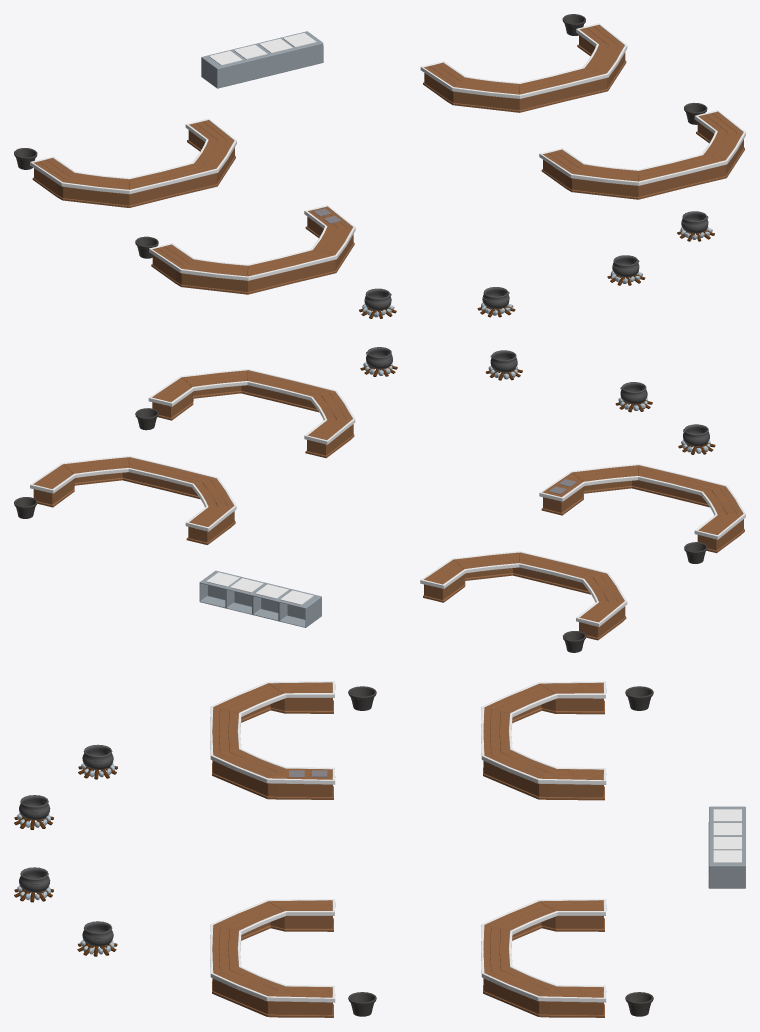
File: ASSETS_Sala de Alquimia (1).fbx
3 renders of one model, top to bottom at view 1: azimuth 30°, elevation 25°; view 2: azimuth 150°, elevation 25°; view 3: azimuth 270°, elevation 25°, orthographic. The views are drawn at different scales.
Visible parts, largest first — view 1: BancadaCompetidor.003, BancadaCompetidor.001, BancadaCompetidor.002, BancadaCompetidor, BancadaEntrega, Caldeirão.004, Caldeirão.007, Caldeirão.006, Caldeirão.005; view 2: BancadaCompetidor.003, BancadaCompetidor.001, BancadaCompetidor.002, BancadaCompetidor, BancadaEntrega, Caldeirão.006, Caldeirão.004, Caldeirão.005, Caldeirão.007; view 3: BancadaCompetidor.002, BancadaCompetidor.003, BancadaCompetidor.001, BancadaCompetidor, BancadaEntrega, Caldeirão.007, Caldeirão.005, Caldeirão.006, Caldeirão.004.
Part boxes in pixels (x1=…): BancadaCompetidor.003: x1=420, y1=23, x2=627, y2=112; BancadaCompetidor.001: x1=539, y1=110, x2=745, y2=199; BancadaCompetidor.002: x1=30, y1=118, x2=236, y2=207; BancadaCompetidor: x1=149, y1=205, x2=355, y2=294; BancadaEntrega: x1=201, y1=31, x2=323, y2=88; Caldeirão.004: x1=364, y1=288, x2=391, y2=311; Caldeirão.007: x1=681, y1=211, x2=708, y2=233; Caldeirão.006: x1=612, y1=255, x2=639, y2=277; Caldeirão.005: x1=482, y1=287, x2=509, y2=308; BancadaCompetidor.003: x1=30, y1=456, x2=236, y2=544; BancadaCompetidor.001: x1=148, y1=369, x2=355, y2=458; BancadaCompetidor.002: x1=420, y1=551, x2=627, y2=640; BancadaCompetidor: x1=539, y1=464, x2=745, y2=553; BancadaEntrega: x1=199, y1=570, x2=321, y2=627; Caldeirão.006: x1=490, y1=350, x2=517, y2=373; Caldeirão.004: x1=683, y1=424, x2=709, y2=447; Caldeirão.005: x1=620, y1=382, x2=647, y2=405; Caldeirão.007: x1=366, y1=347, x2=392, y2=370; BancadaCompetidor.002: x1=481, y1=681, x2=606, y2=800; BancadaCompetidor.003: x1=481, y1=899, x2=606, y2=1017; BancadaCompetidor.001: x1=210, y1=899, x2=335, y2=1017; BancadaCompetidor: x1=210, y1=681, x2=335, y2=799; BancadaEntrega: x1=708, y1=806, x2=745, y2=888; Caldeirão.007: x1=82, y1=921, x2=113, y2=946; Caldeirão.005: x1=19, y1=795, x2=50, y2=820; Caldeirão.006: x1=19, y1=867, x2=50, y2=893; Caldeirão.004: x1=82, y1=744, x2=113, y2=770.
Bounding box in the file's own units: 3646 × 137 × 3556.
